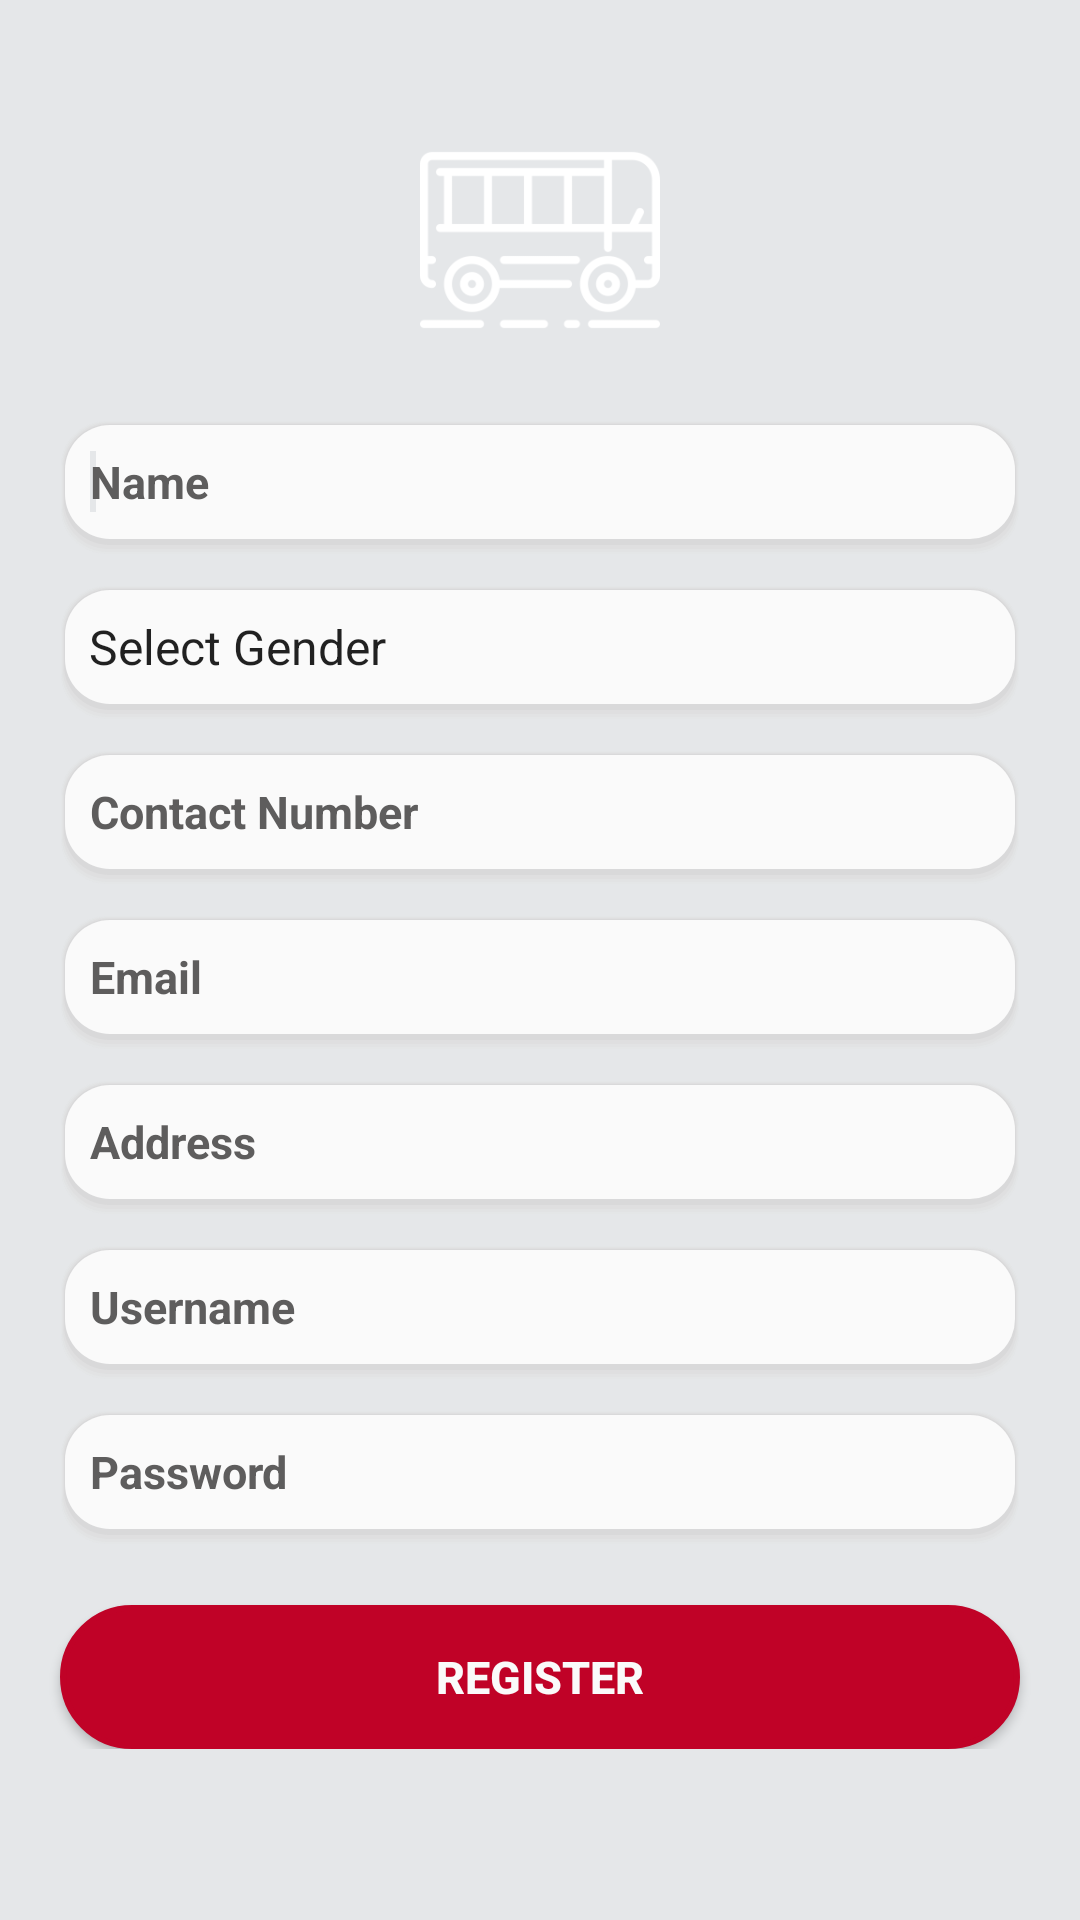

Icons on this 1080w x 1920h Android screen, each with its box as bbox=(x1, y1, x2, y2):
bus: bbox=(420, 153, 660, 327)
